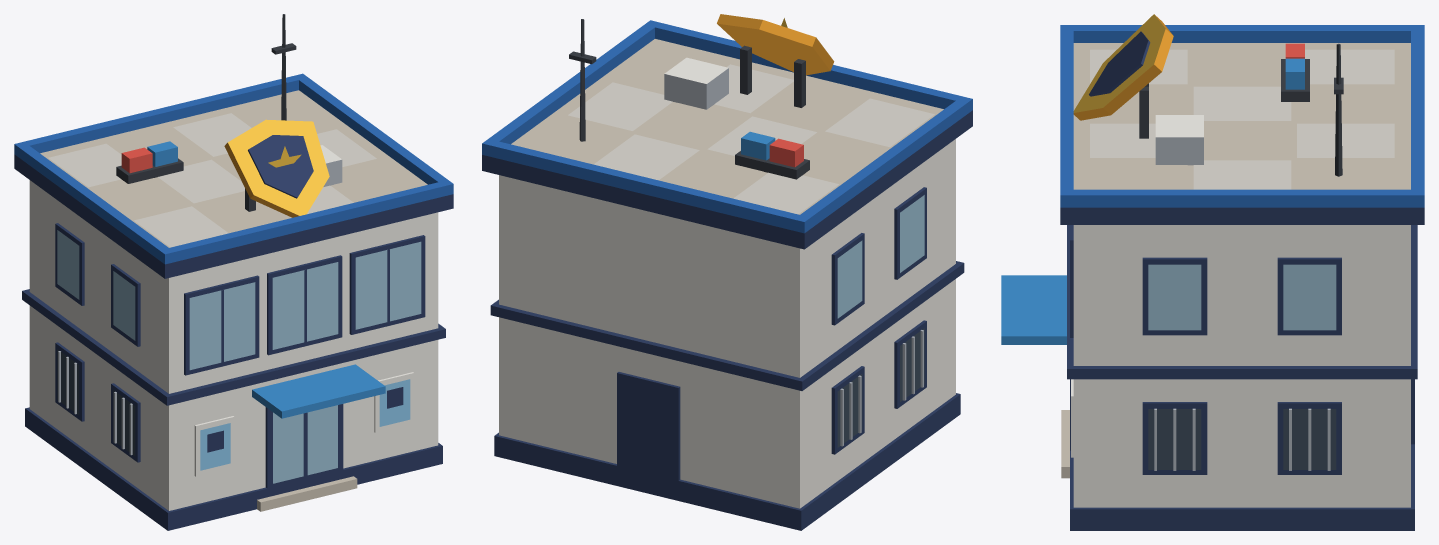
The model's file is B_PoliceStation.fbx.
3 renders of one model, left to right at view 1: azimuth 30°, elevation 25°; view 2: azimuth 150°, elevation 25°; view 3: azimuth 270°, elevation 25°, orthographic. The views are drawn at different scales.
Parts seen in each view (by area): view 1: B_PoliceStation; view 2: B_PoliceStation; view 3: B_PoliceStation.
Boxes of the visible parts, bbox=[...] form: B_PoliceStation: bbox=[14, 14, 453, 530]; B_PoliceStation: bbox=[482, 14, 972, 530]; B_PoliceStation: bbox=[1001, 14, 1424, 530].
Bounding box in the file's own units: 4.18 × 5.25 × 4.39.
